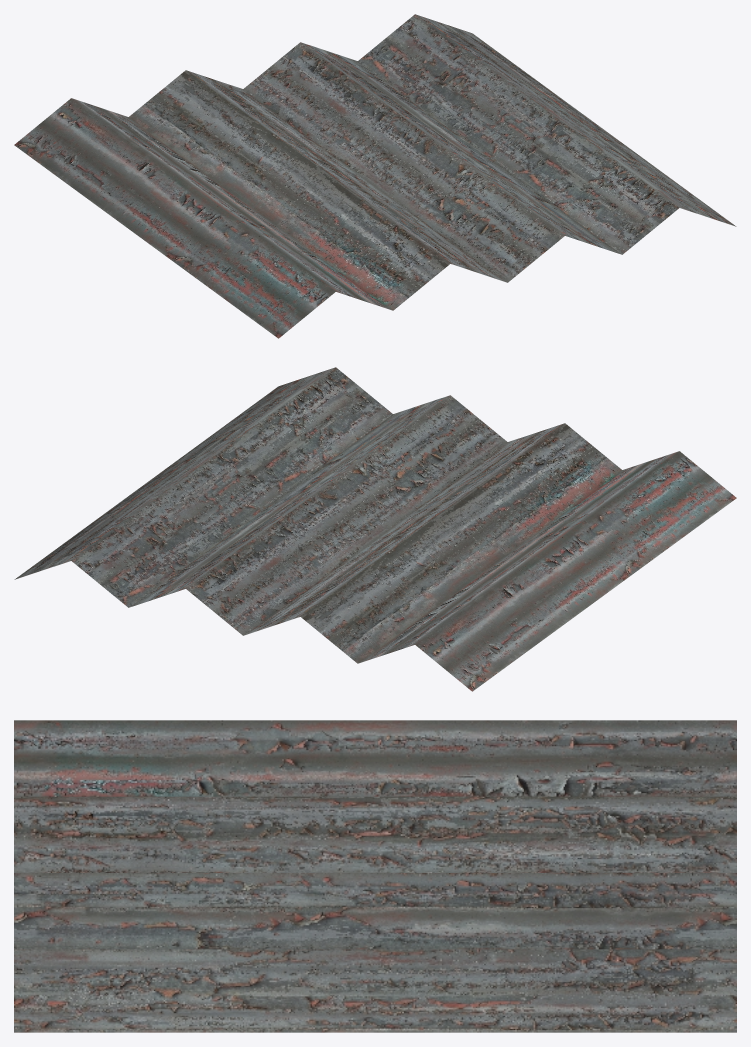
Rendered from MetalSheet.fbx.
The picture shows the model from 3 angles, top to bottom: view 1: azimuth 30°, elevation 25°; view 2: azimuth 150°, elevation 25°; view 3: azimuth 270°, elevation 25°; orthographic projection. The views are drawn at different scales.
Parts seen in each view (by area): view 1: MetalSheet; view 2: MetalSheet; view 3: MetalSheet.
Part boxes in pixels (bbox=[...]): MetalSheet: bbox=[14, 14, 736, 338]; MetalSheet: bbox=[14, 367, 736, 691]; MetalSheet: bbox=[14, 720, 736, 1032].
Size of the model in its own units: 200 by 13.76 by 200.
Materials: 1 (1 with a texture image).
